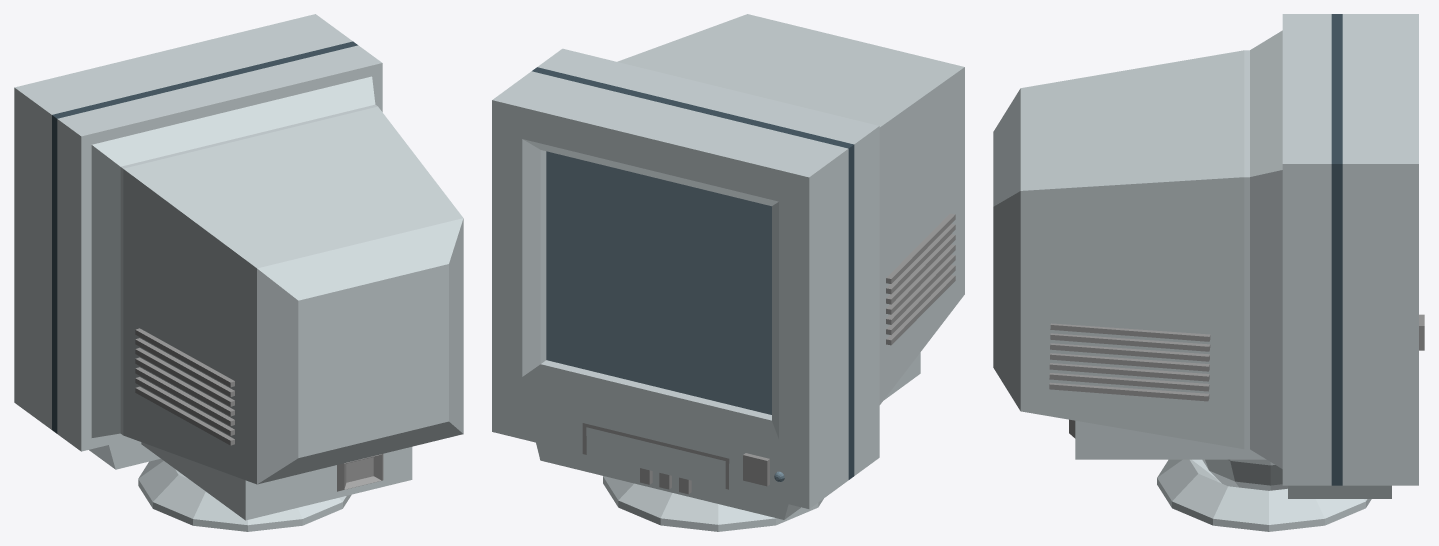
The model's file is pp_crt_monitor.glb.
3 views of the same model, side by side, from view 1: azimuth 30°, elevation 25°; view 2: azimuth 150°, elevation 25°; view 3: azimuth 270°, elevation 25° (orthographic). The views are drawn at different scales.
Visible parts, largest first — view 1: Node; view 2: Node; view 3: Node.
Boxes of the visible parts, <box> form: Node: <box>14,14,463,531</box>; Node: <box>492,14,964,531</box>; Node: <box>993,14,1424,531</box>.
Size of the model in its own units: 0.65 by 0.7904 by 0.7901.
